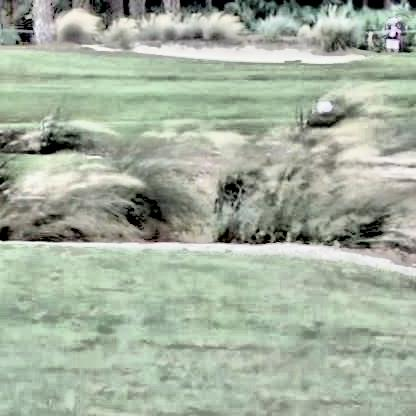golfball: (314, 98, 329, 113)
